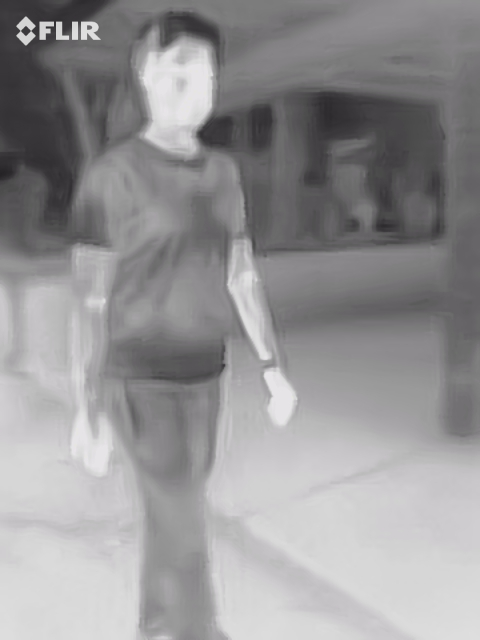head: (133, 16, 220, 131)
